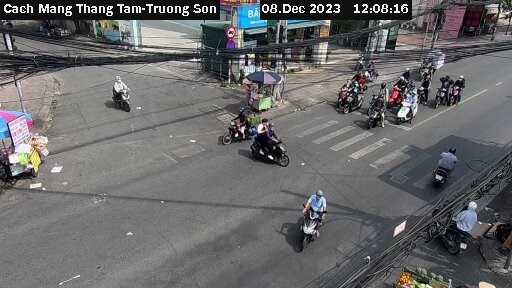motorbike: (285, 194, 340, 249), (425, 196, 480, 249), (248, 124, 293, 168), (422, 148, 464, 191), (214, 110, 259, 142), (102, 76, 140, 111), (413, 52, 454, 80), (336, 81, 369, 108), (367, 90, 391, 127), (451, 76, 476, 108), (399, 91, 422, 125), (431, 78, 456, 109)
